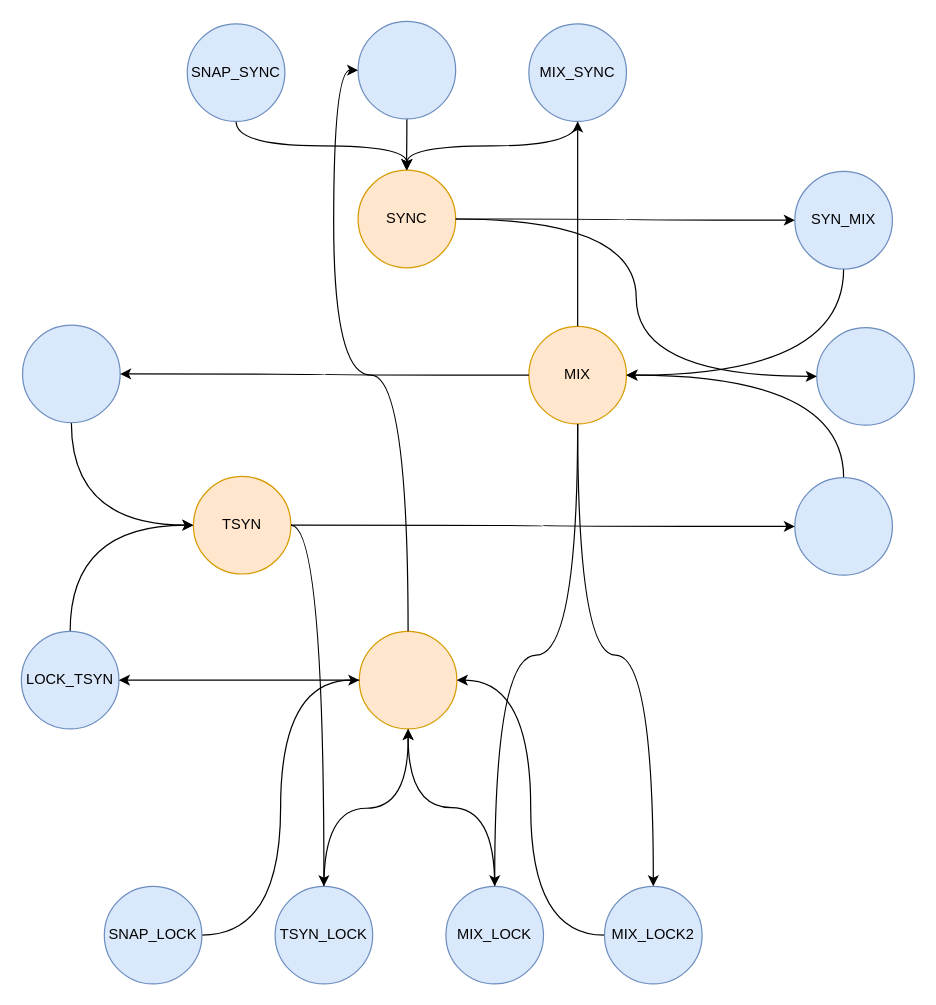
Some shapes in this 936 by 1005 pixel diagram are drawn without their labels. The shapes that lost their labels are listed below. From the top down, each one's centre as x and y in pixels, then its label:
point (406, 69): LOCK_SYNC
point (70, 373): MIX_TSYN
point (865, 375): SYN_MIX2
point (843, 525): TSYN_MIX
point (407, 679): LOCK
